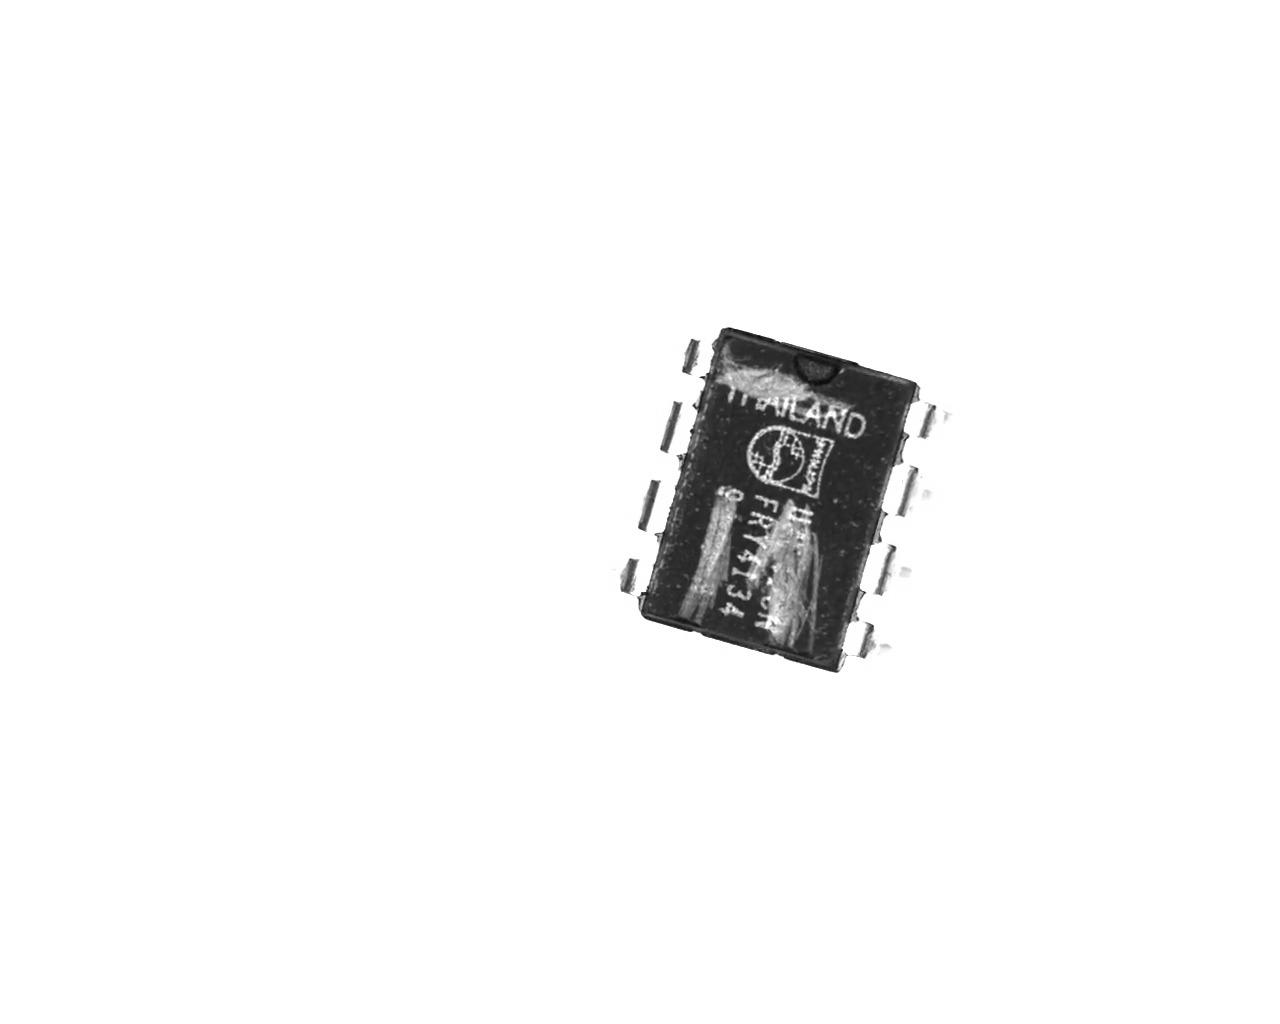Leg: (636, 478, 680, 535), (657, 401, 701, 456), (862, 543, 900, 597), (885, 465, 923, 516), (840, 622, 882, 659), (619, 557, 655, 597), (680, 338, 715, 379), (905, 400, 940, 440)
